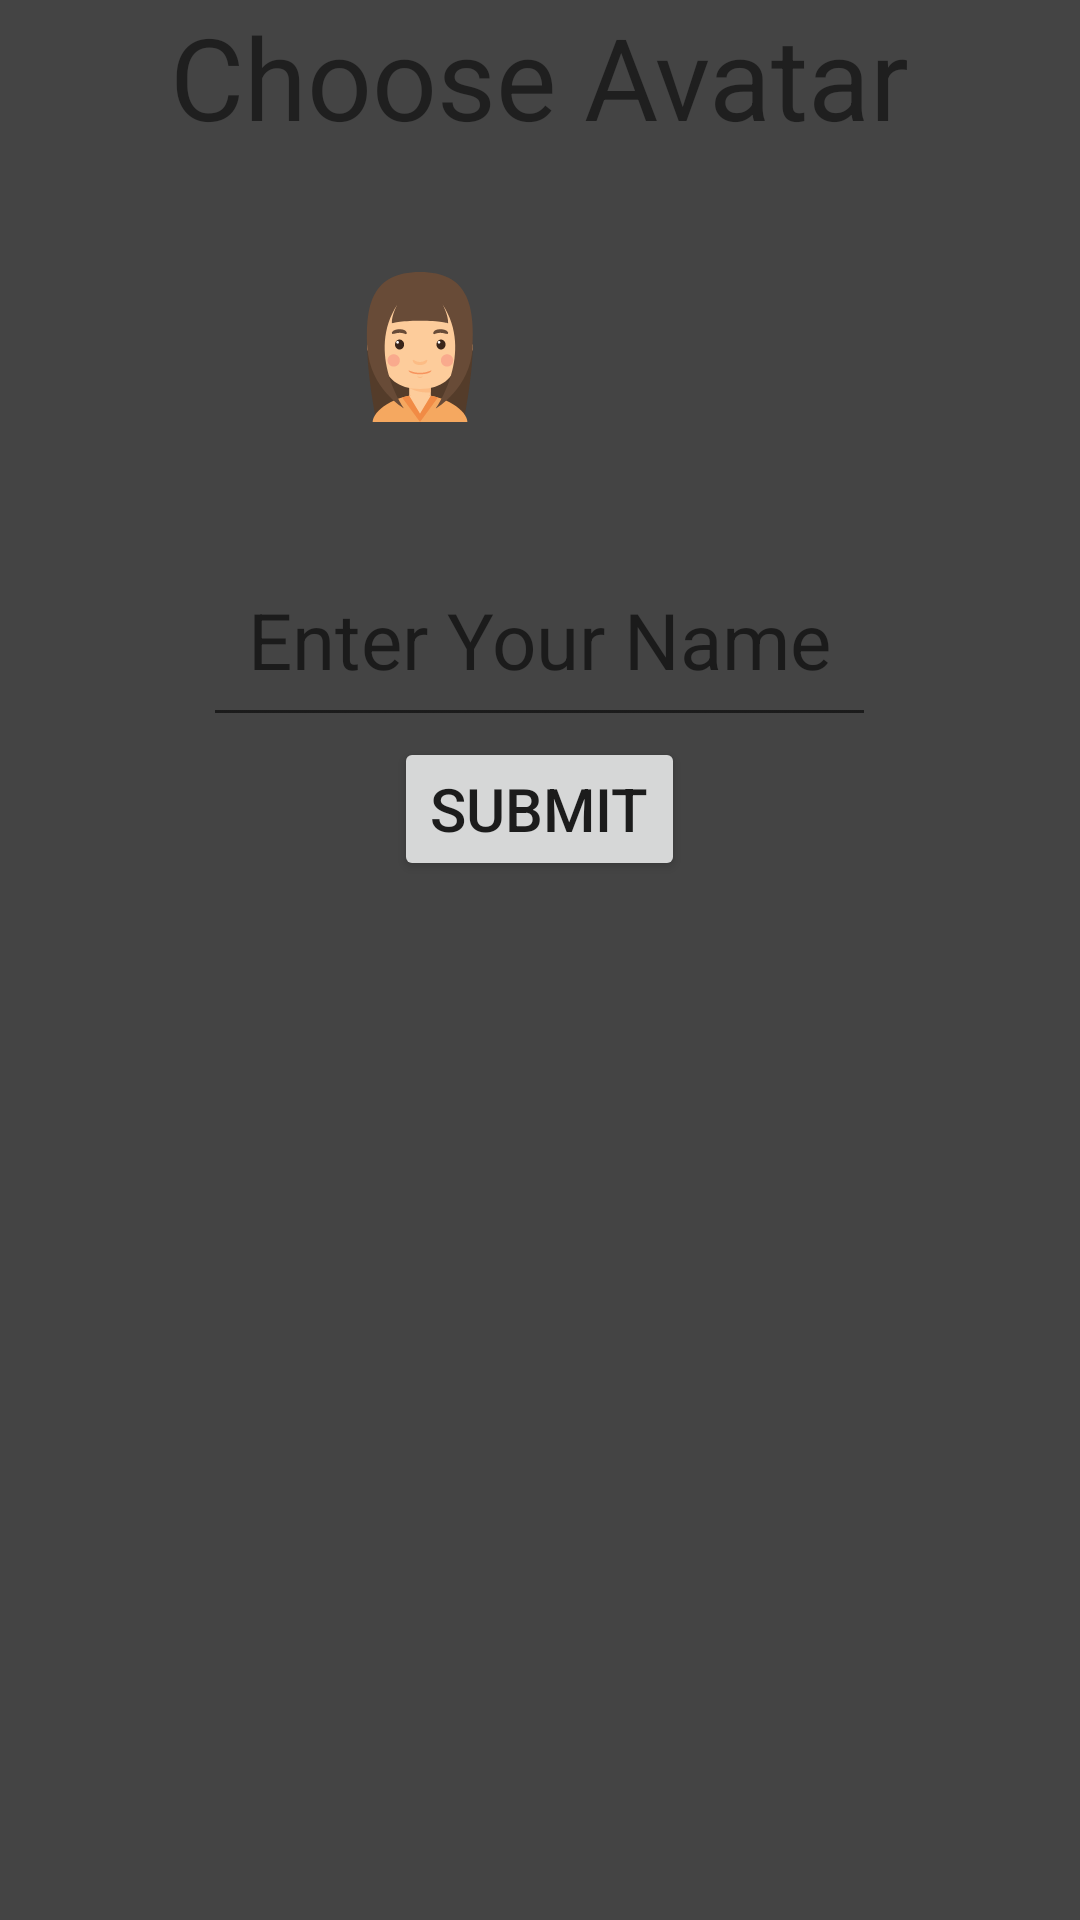

Named icons in this screenshot (1080w x 1920h) and their centers, (x,y):
player girl: (420,347)
